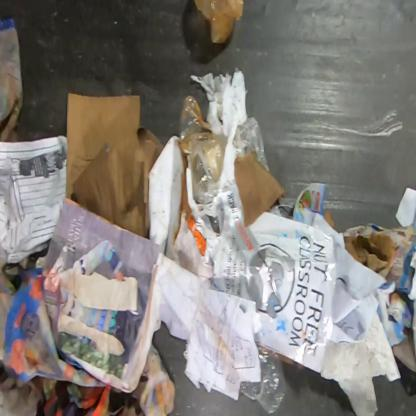cardboard: (65, 91, 166, 240), (234, 149, 286, 230), (148, 134, 185, 247), (323, 209, 335, 229)
soft_plastic: (191, 182, 338, 375), (178, 94, 228, 206), (236, 340, 288, 415), (191, 0, 246, 47), (231, 116, 270, 170), (176, 226, 206, 278)
